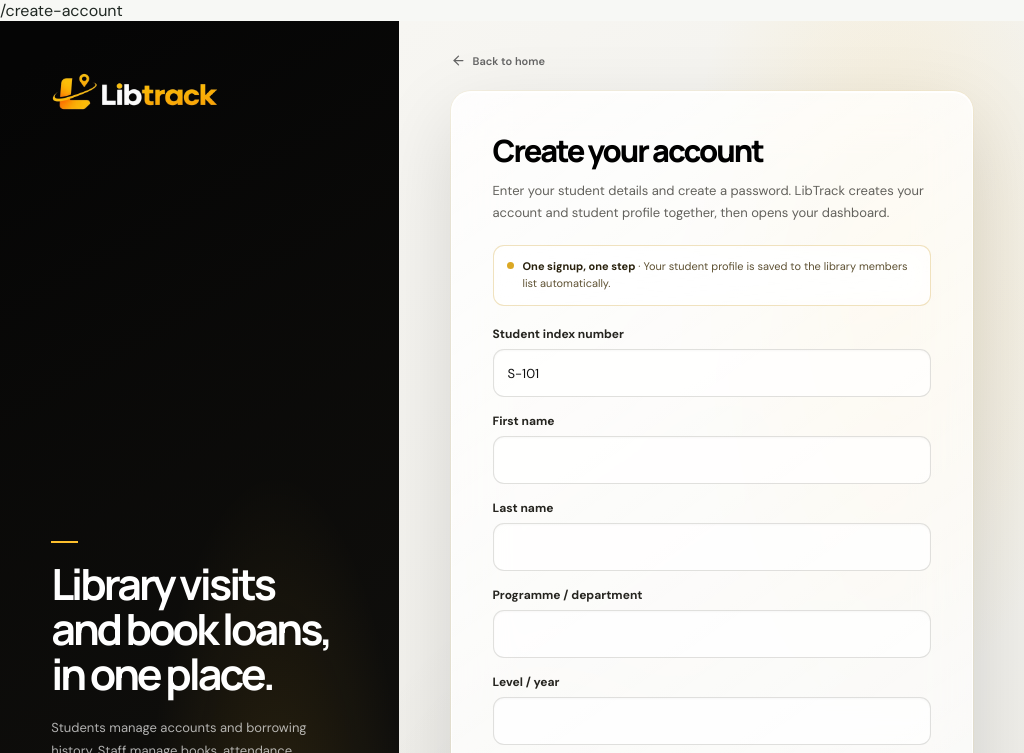
LibTrack account screens › does not let non-local account creation proceed without a connected signup handler
Earlier steps of the test are not shown.
In the field labelled "First name": (712, 460) [492,436,931,484], type "Jordan"
In the field labelled "Last name": (712, 547) [492,523,931,571], type "Mensah"
In the field labelled "Programme / department": (712, 634) [492,610,931,658], type "Computer Science"
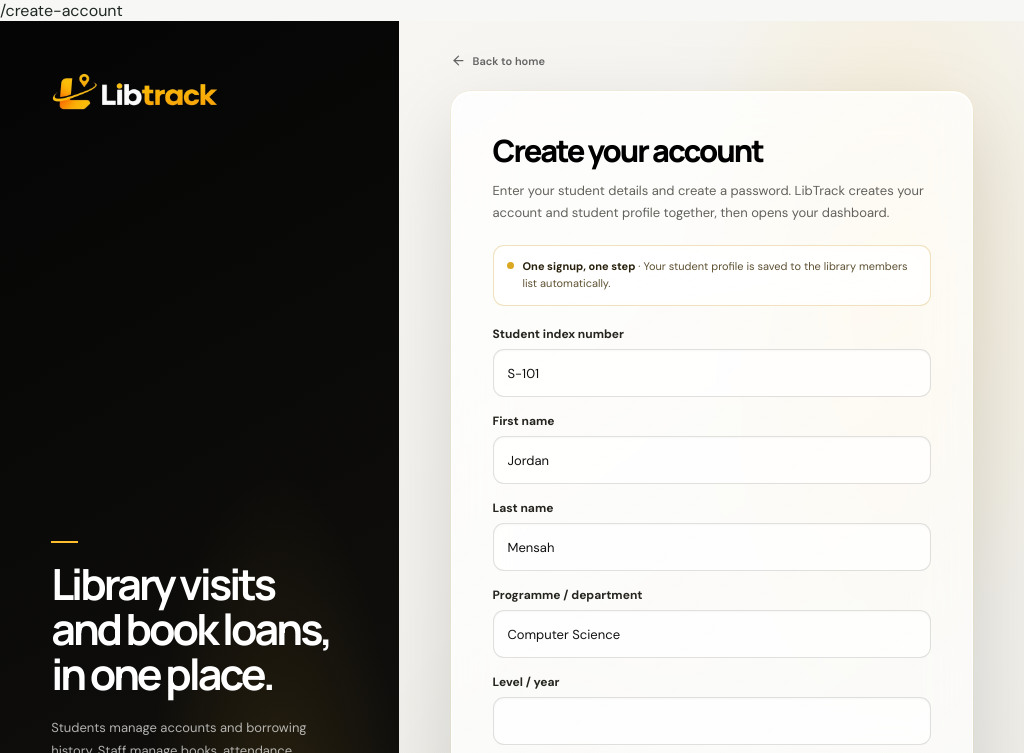
In the field labelled "Level / year": (712, 721) [492,697,931,745], type "Level 300"
(page scrolled)
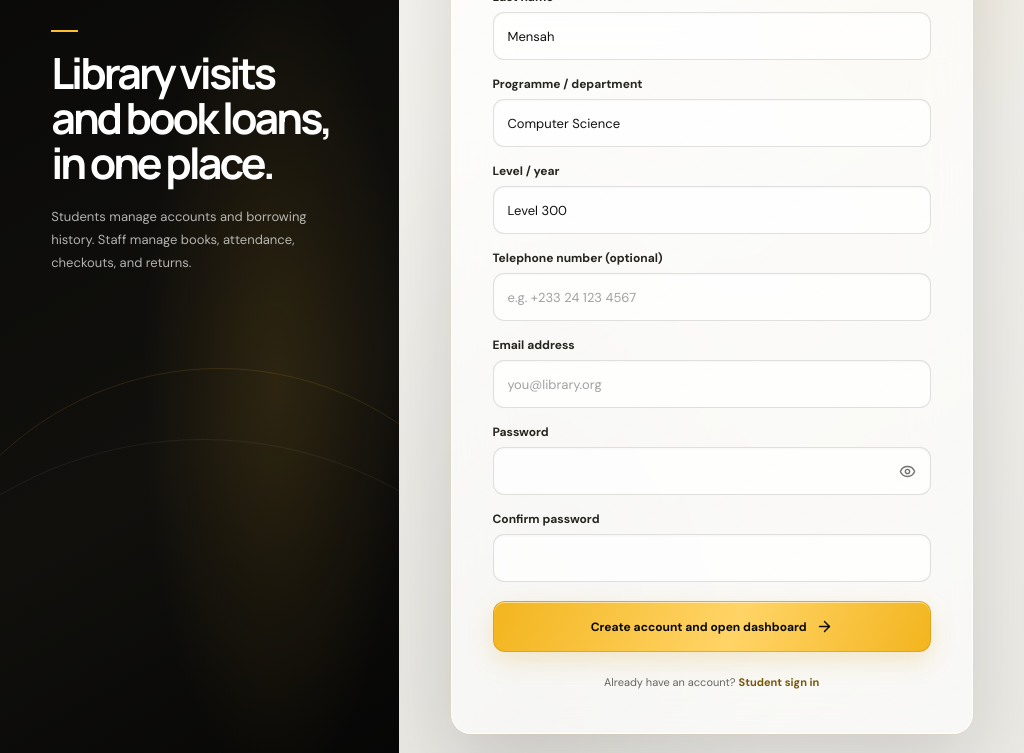
In the field labelled "Email address": (712, 384) [492,360,931,408], type "jordan@example.test"
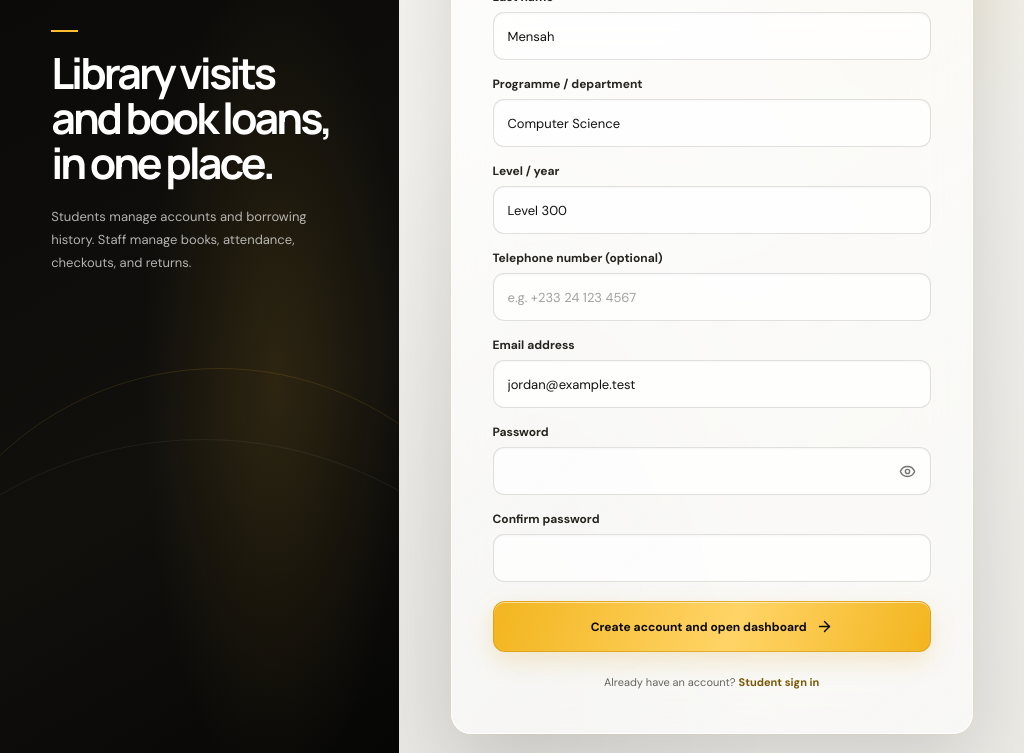
In the password field labelled "Password": (712, 471) [492,447,931,495], type "password8"
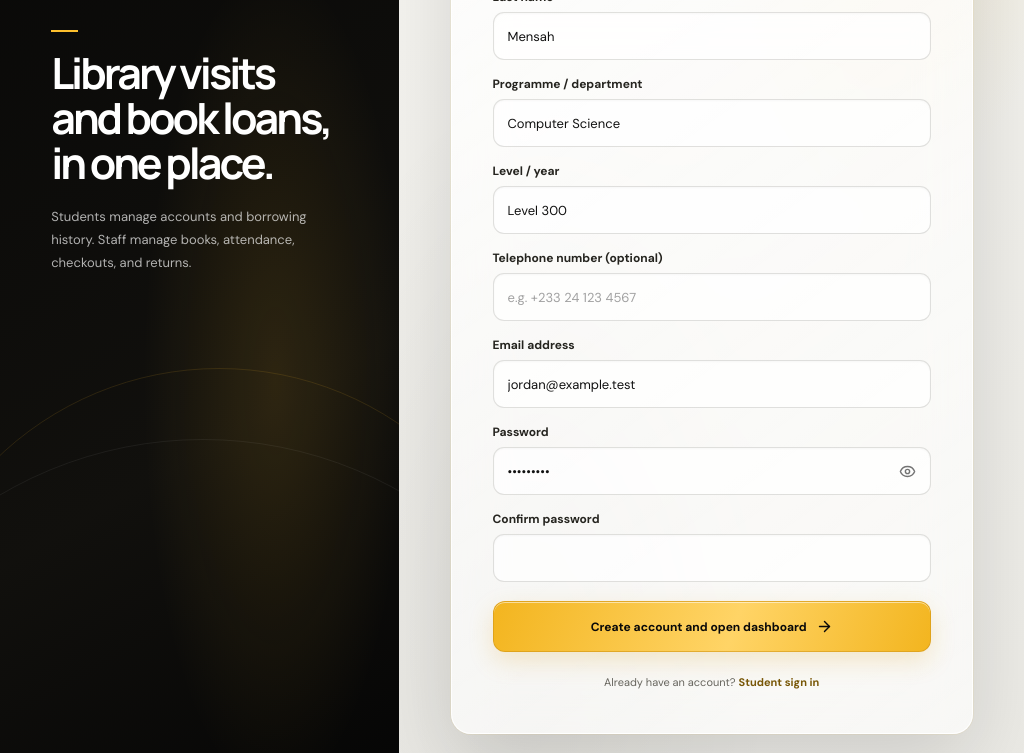
In the password field labelled "Confirm password": (712, 558) [492,534,931,582], type "password8"
(page scrolled)
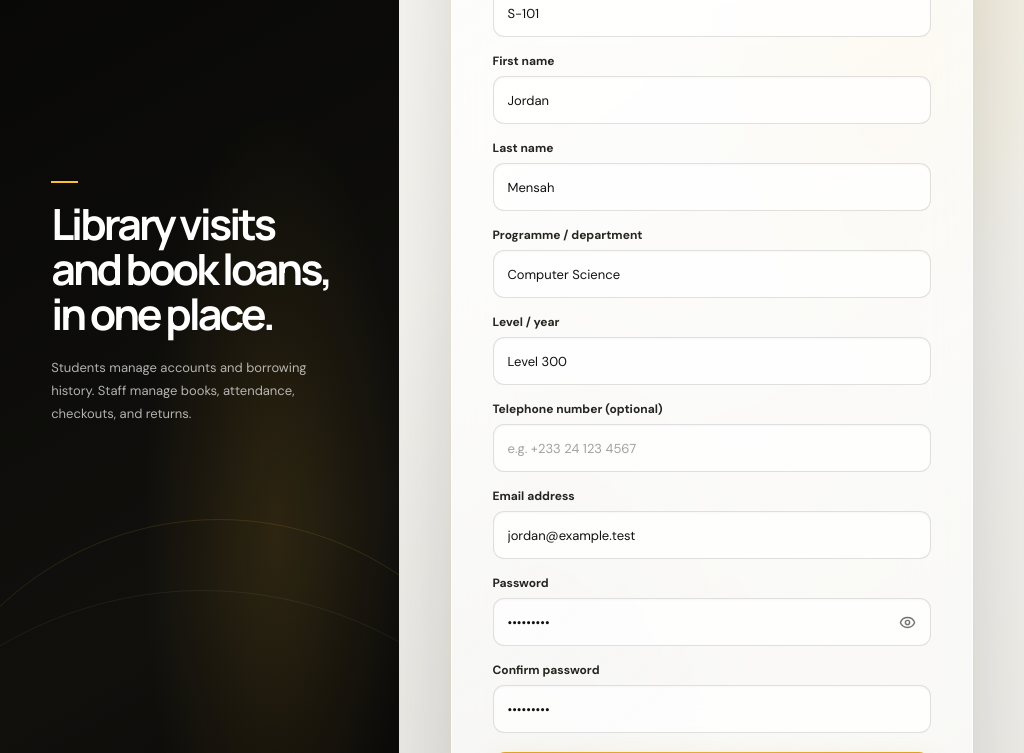
Submit the form named "Create your account"
(page scrolled)
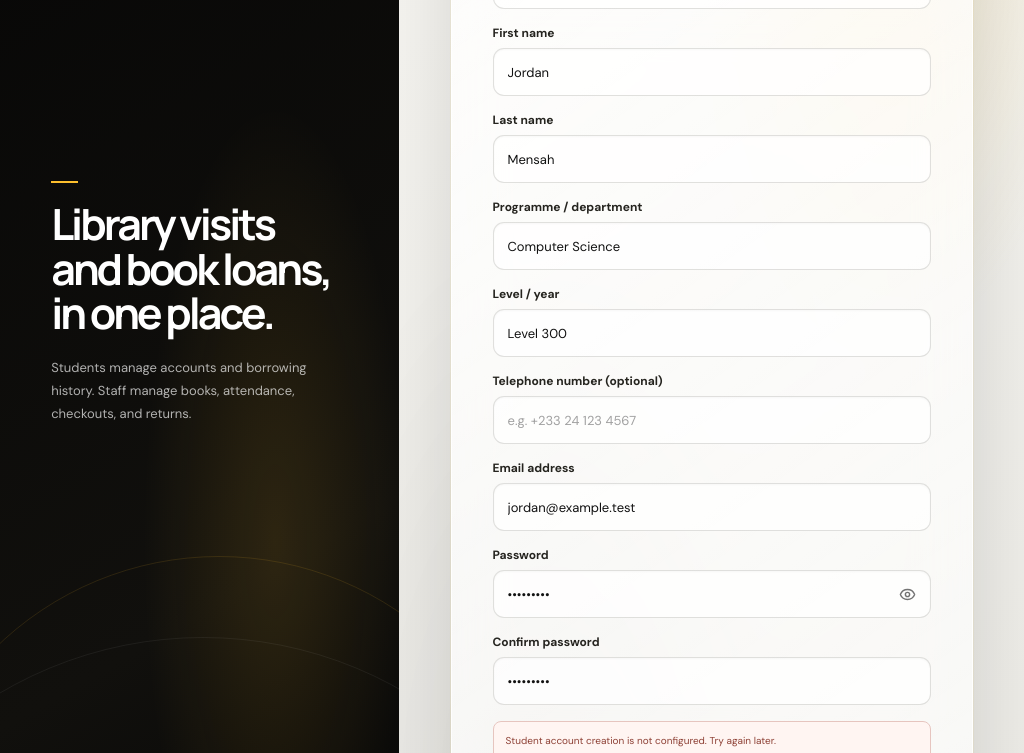
Check: the message shows "not configured", box [506,734,776,747]
